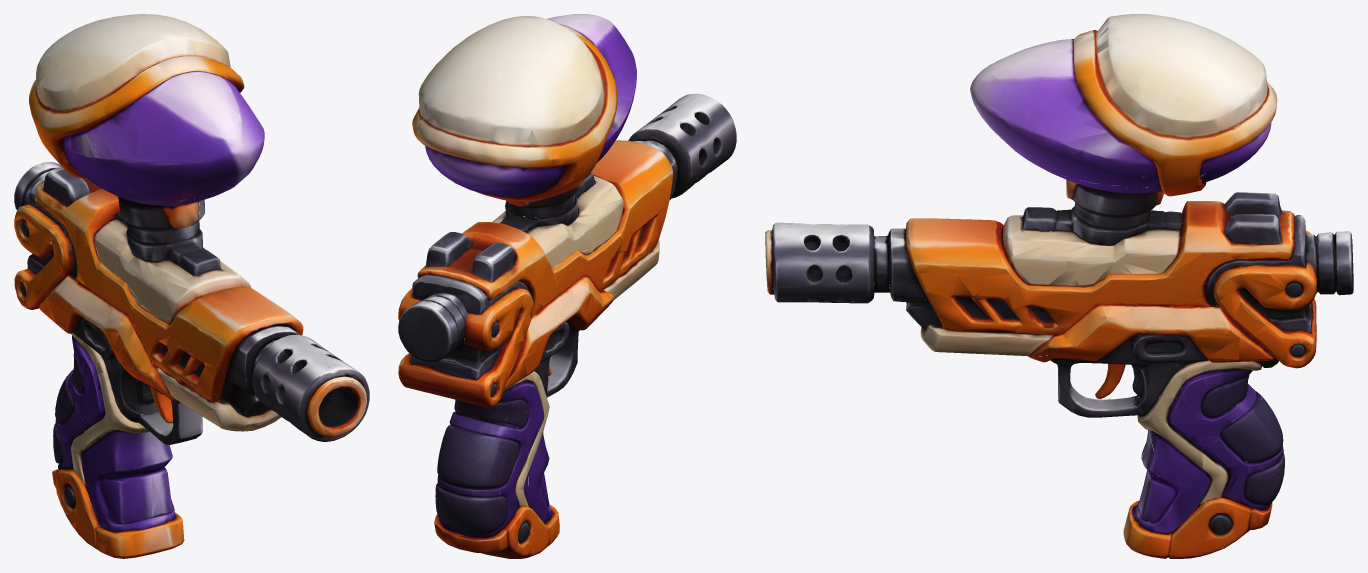
File: twins.glb
3 renders of one model, left to right at view 1: azimuth 30°, elevation 25°; view 2: azimuth 150°, elevation 25°; view 3: azimuth 270°, elevation 25°, orthographic. The views are drawn at different scales.
Visible parts, largest first — view 1: ChogWeapon_twins; view 2: ChogWeapon_twins; view 3: ChogWeapon_twins.
Part boxes in pixels (bbox=[...]): ChogWeapon_twins: bbox=[14, 14, 369, 558]; ChogWeapon_twins: bbox=[398, 14, 736, 558]; ChogWeapon_twins: bbox=[765, 14, 1353, 558].
Size of the model in its own units: 0.1195 by 0.3326 by 0.34.
1 material, 1 textured.
